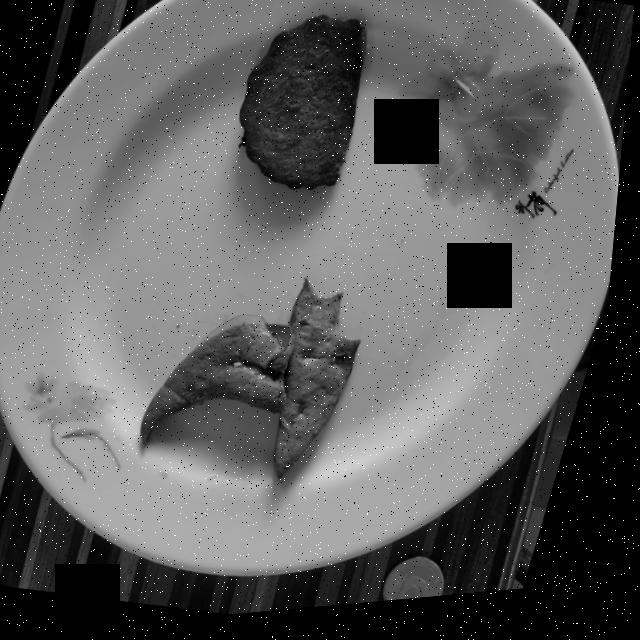Spam: (241, 19, 365, 195)
coin: (395, 564, 456, 609)
pig liver: (148, 284, 366, 483)
